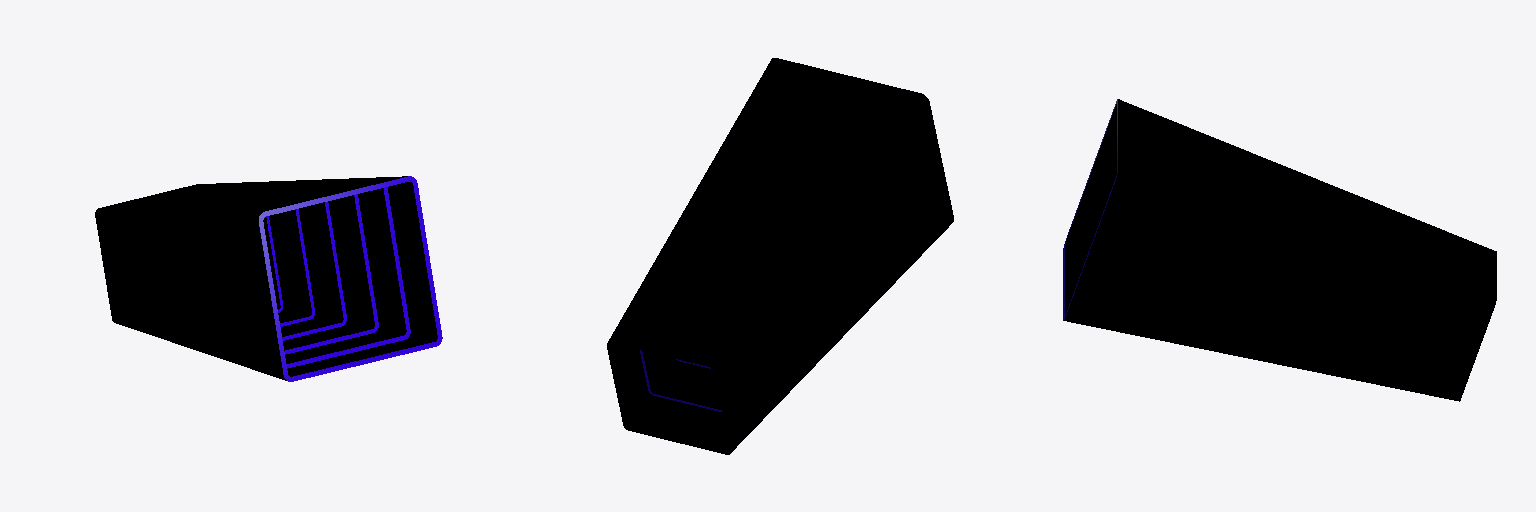
The picture shows the model from 3 angles: view 1: azimuth 30°, elevation 25°; view 2: azimuth 150°, elevation 25°; view 3: azimuth 270°, elevation 25°; orthographic projection.
Parts seen in each view (by area): view 1: Object01_Object01.000, Rectangle0_Rectangle0.000; view 2: Object01_Object01.000; view 3: Object01_Object01.000.
Boxes of the visible parts, x1=… form: Object01_Object01.000: x1=95, y1=176, x2=437, y2=380; Rectangle0_Rectangle0.000: x1=259, y1=176, x2=442, y2=381; Object01_Object01.000: x1=607, y1=58, x2=953, y2=454; Object01_Object01.000: x1=1064, y1=99, x2=1496, y2=401.
Bounding box in the file's own units: 8.25 × 12.04 × 19.5.
Materials: 2 (1 with a texture image).